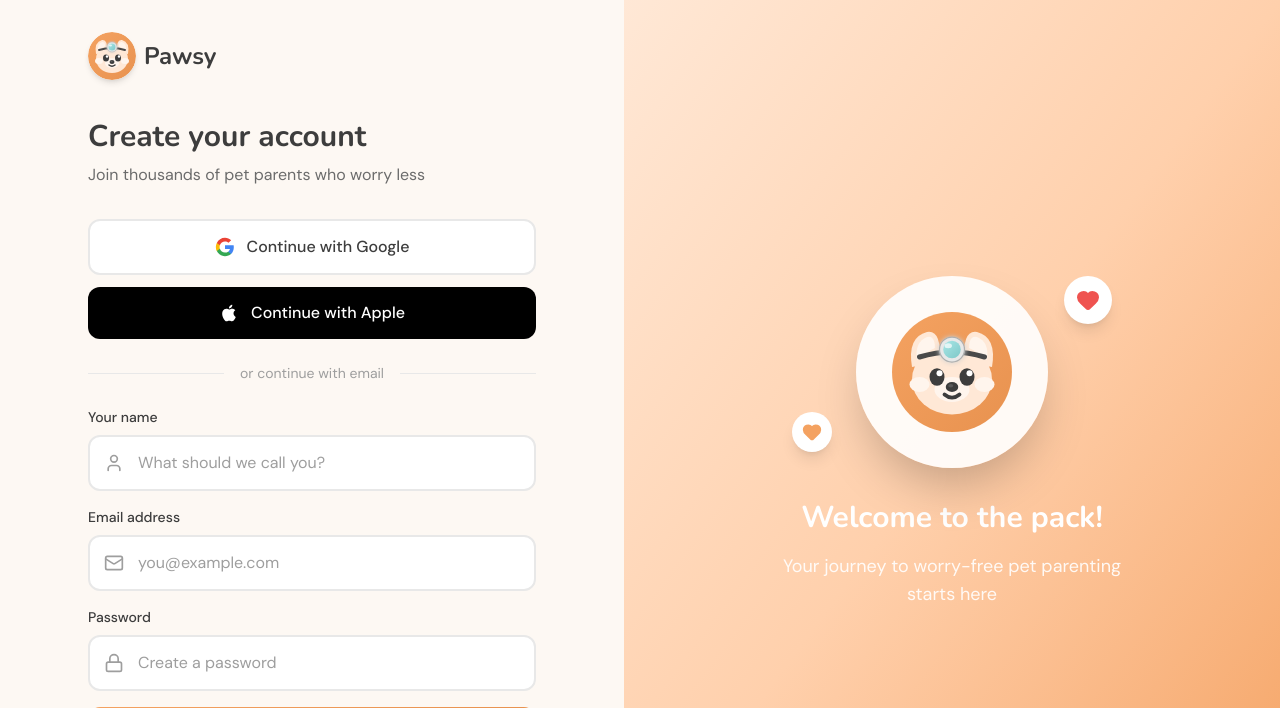
Test case: SignUp › shows error for duplicate email
The image size is (1280, 708).
In the field labelled "Your name": (312, 463) x1=88 y1=435 x2=536 y2=491, type "Another User"
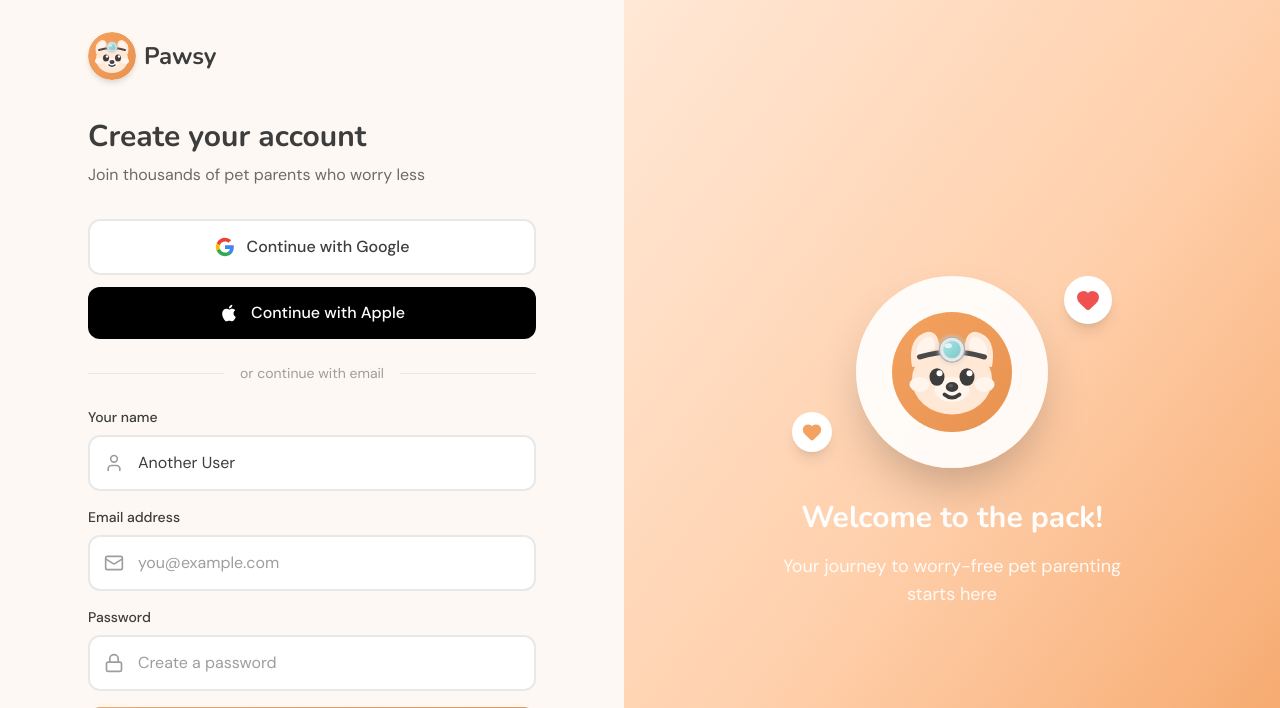
In the field labelled "Email address": (312, 563) x1=88 y1=535 x2=536 y2=591, type "test@example.com"
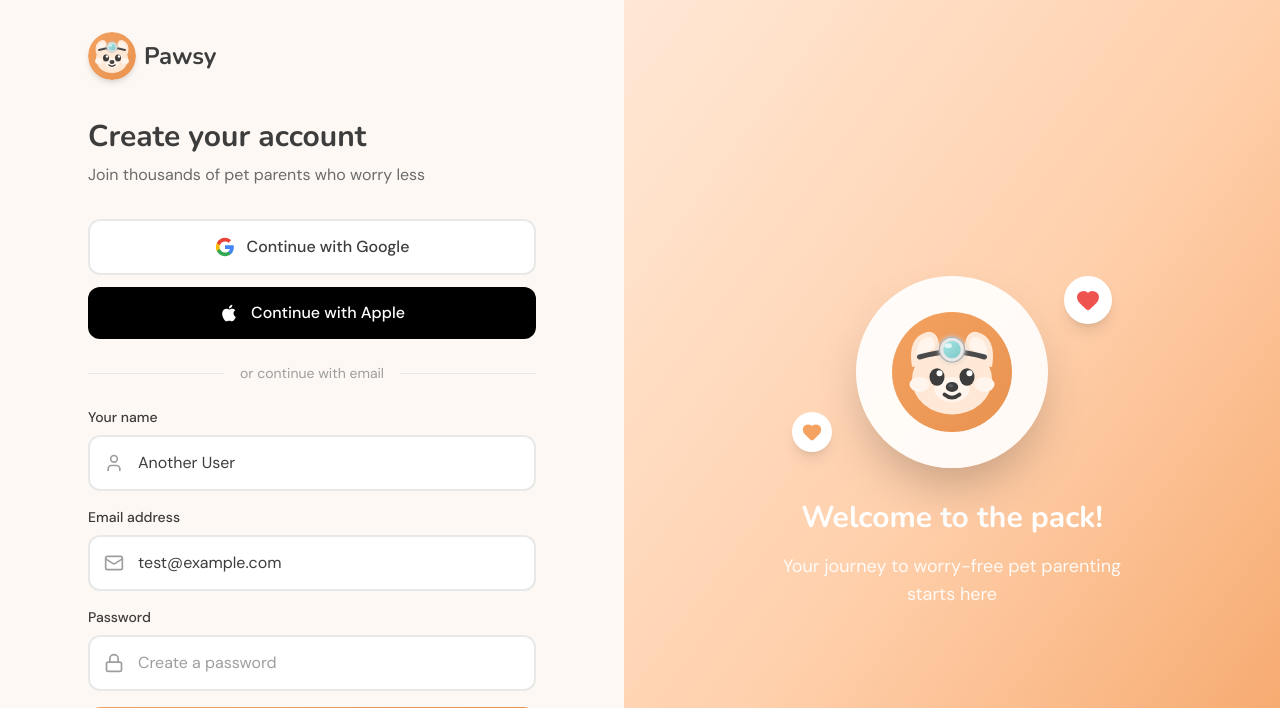
In the password field labelled "Password": (312, 663) x1=88 y1=635 x2=536 y2=691, type "password123"
(page scrolled)
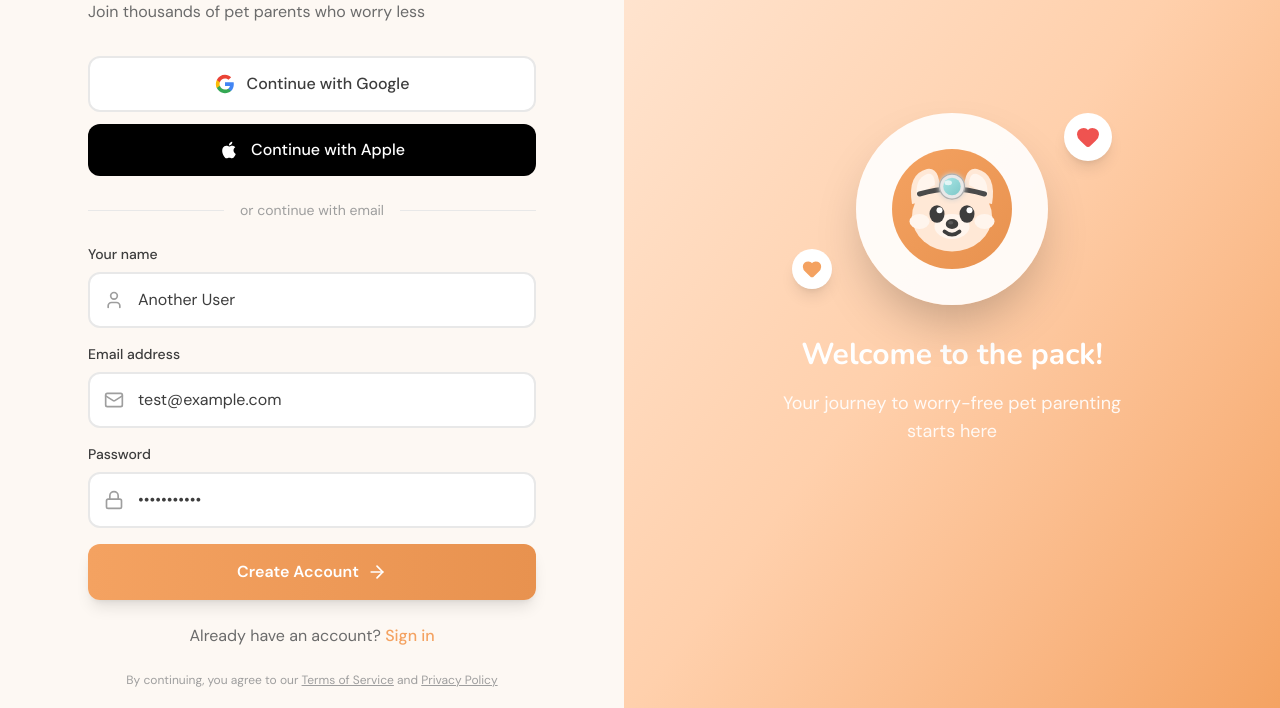
Click the button "Create Account": (312, 572) x1=88 y1=544 x2=536 y2=600
Wait 600 ms
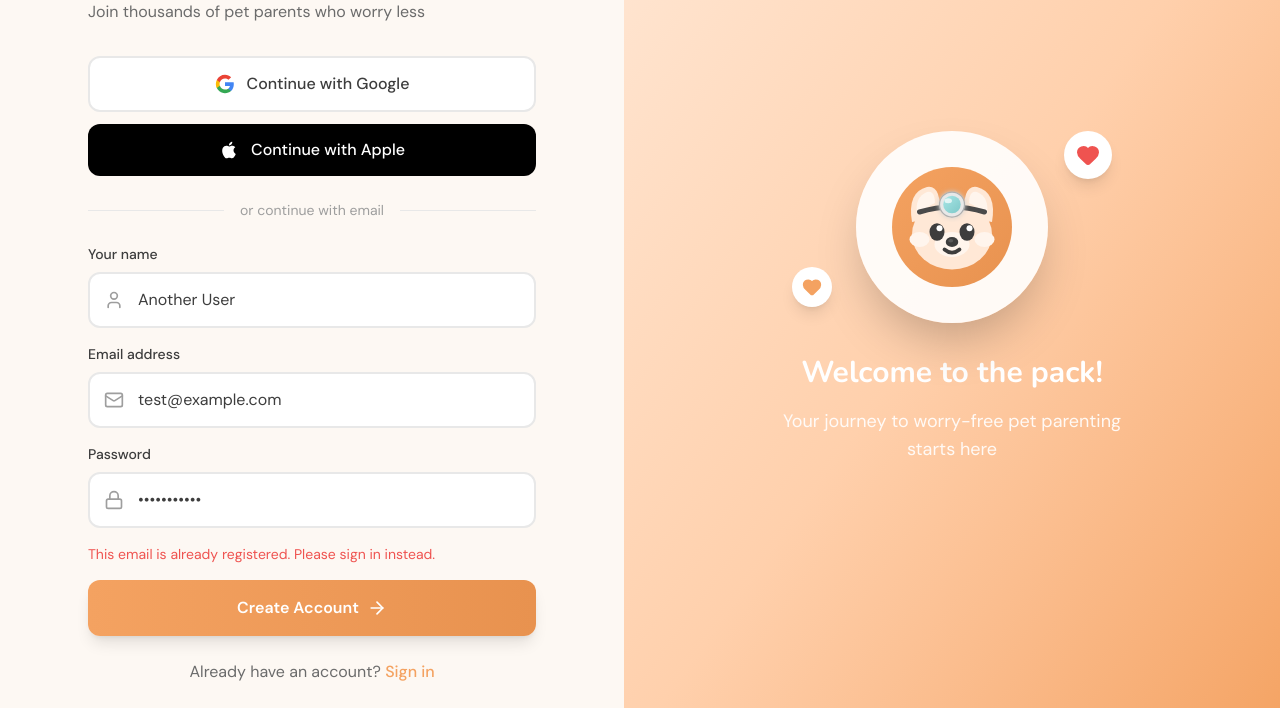
Expected: the text "This email is already registered. Please sign in instead." is shown, x1=88 y1=545 x2=435 y2=563
